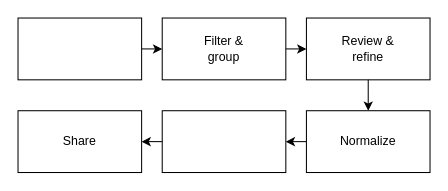
Some shapes in this 448 by 191 pixel diagram are drawn without their labels. Each missing label, with the box of its shape:
Discover & transform: (17, 17, 142, 80)
Visualize: (161, 110, 286, 173)
